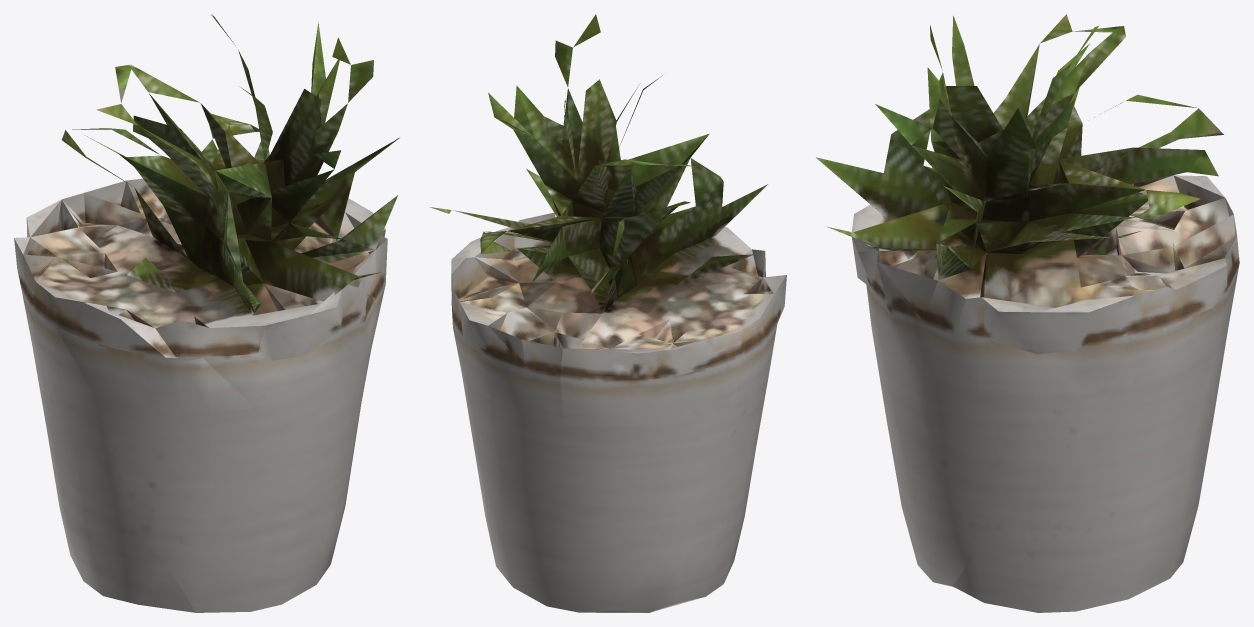
Rendered from plant_pot4.glb.
The picture shows the model from 3 angles, left to right: view 1: azimuth 30°, elevation 25°; view 2: azimuth 150°, elevation 25°; view 3: azimuth 270°, elevation 25°; orthographic projection. The views are drawn at different scales.
Parts seen in each view (by area): view 1: mesh; view 2: mesh; view 3: mesh.
Boxes of the visible parts, left/top/right/bottom form: mesh: left=14, top=14, right=399, bottom=612; mesh: left=430, top=14, right=786, bottom=612; mesh: left=816, top=14, right=1239, bottom=612.
Size of the model in its own units: 0.1642 by 0.2676 by 0.1795.
1 material, 1 textured.
